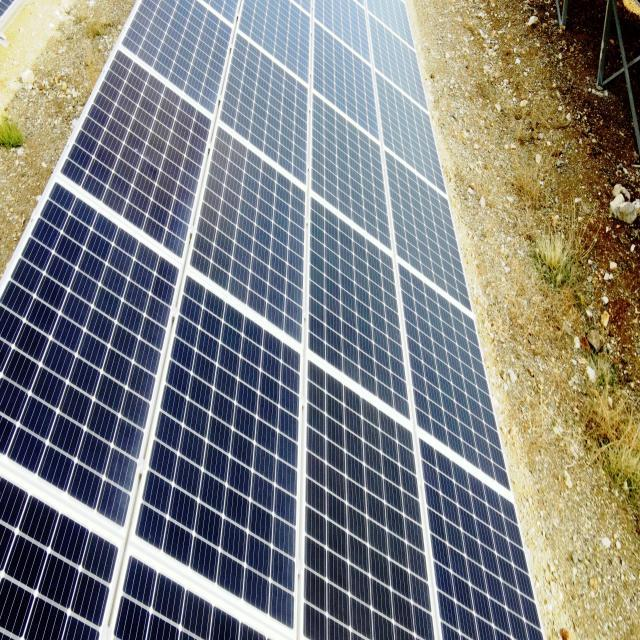no faulty: (2, 175, 176, 536), (126, 273, 300, 633), (296, 356, 438, 636), (56, 37, 214, 265), (178, 120, 310, 348), (294, 194, 420, 415), (436, 431, 546, 640), (402, 256, 510, 458), (117, 2, 241, 120), (309, 91, 396, 255), (214, 28, 310, 176), (388, 149, 476, 305), (307, 20, 382, 121)
